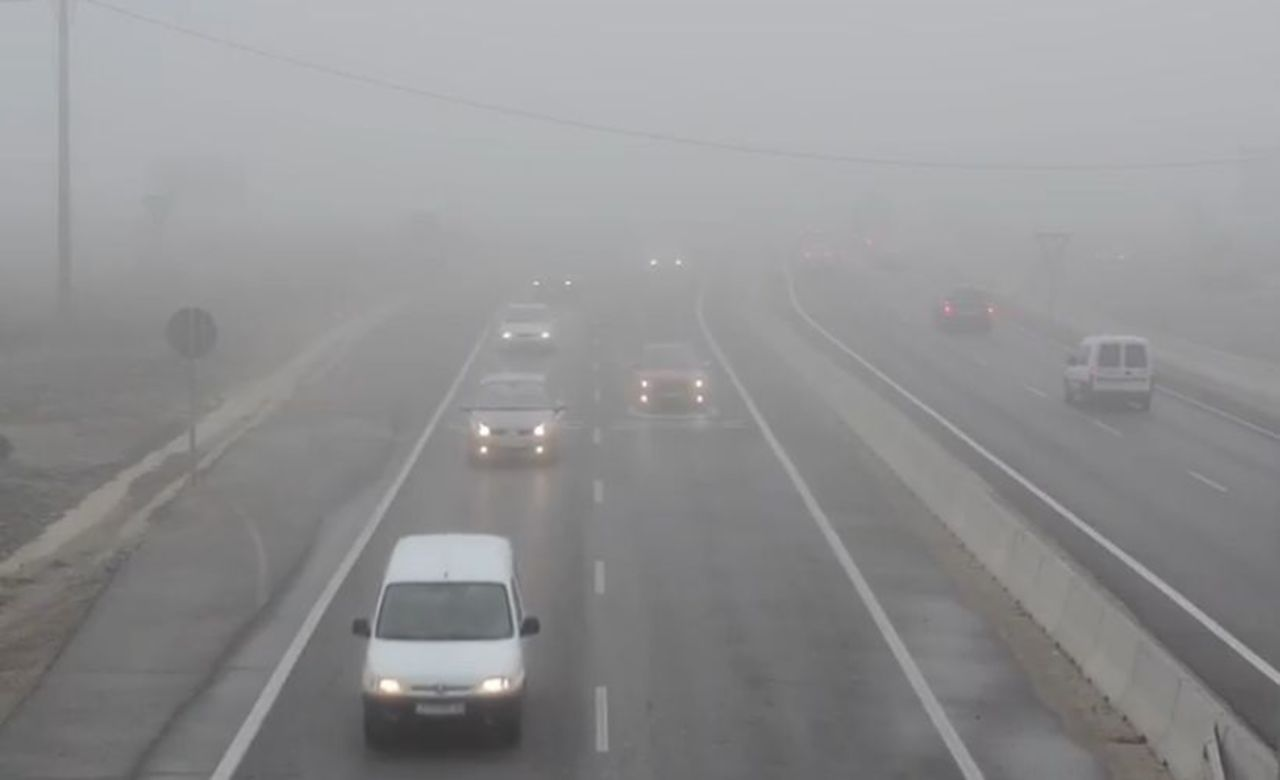car: (359, 537, 534, 748), (463, 382, 565, 462), (1062, 332, 1151, 411), (627, 343, 715, 419), (493, 302, 556, 353), (935, 286, 995, 335), (527, 260, 577, 297), (645, 243, 689, 275)
